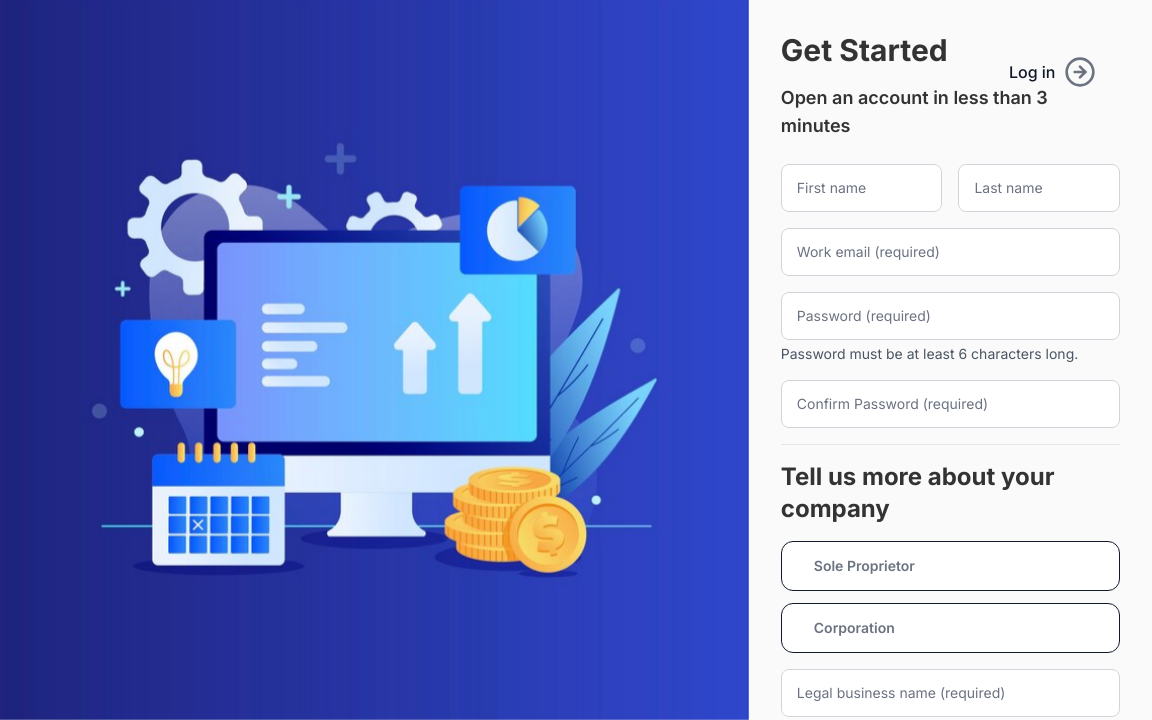
Test: SignupForm › displays validation error for invalid email
In the field with placeholder "Work email (required)": point(950, 252) [781,228,1120,276], type "ThisIsMyEmailAddress"
(page scrolled)
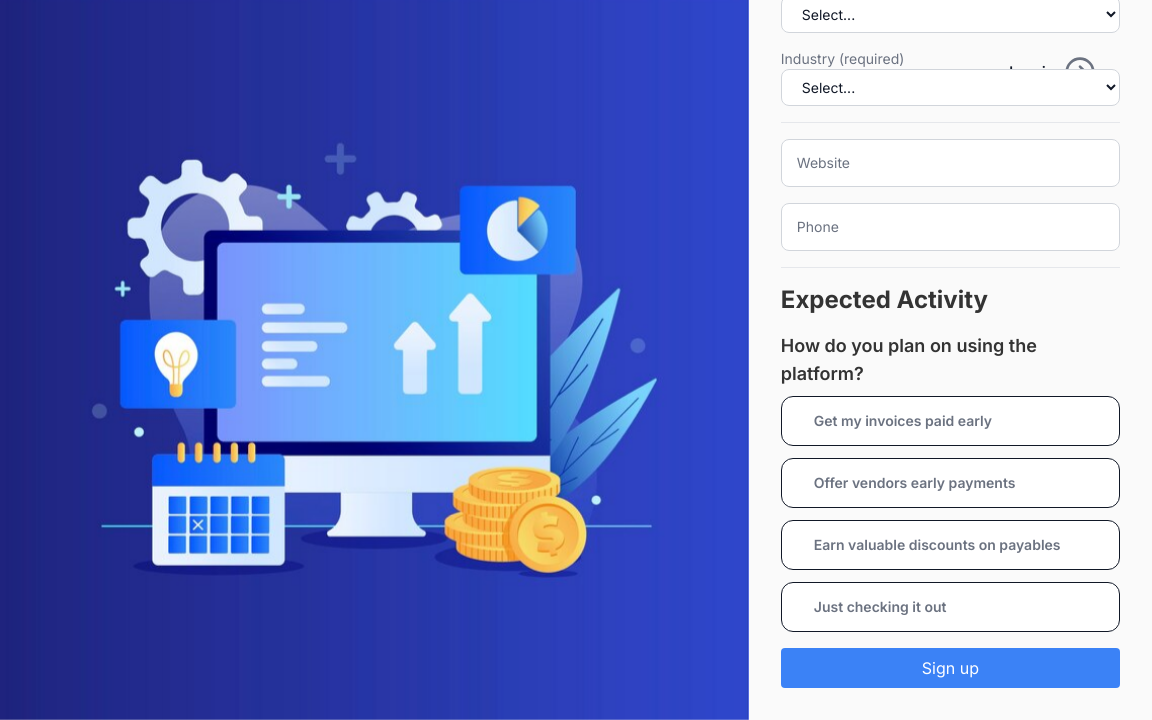
Click the button "Sign up": point(950, 668) [781,648,1120,688]
(page scrolled)
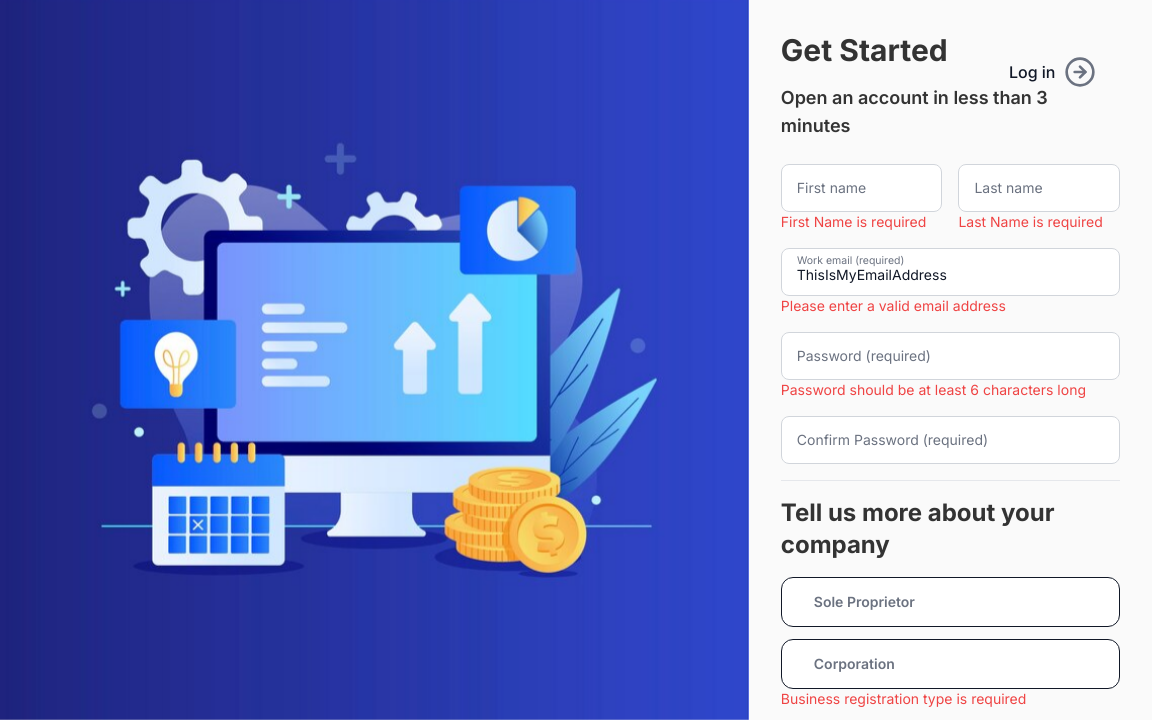
Result: the text "Please enter a valid email address" is shown at [781,297,1006,314]
